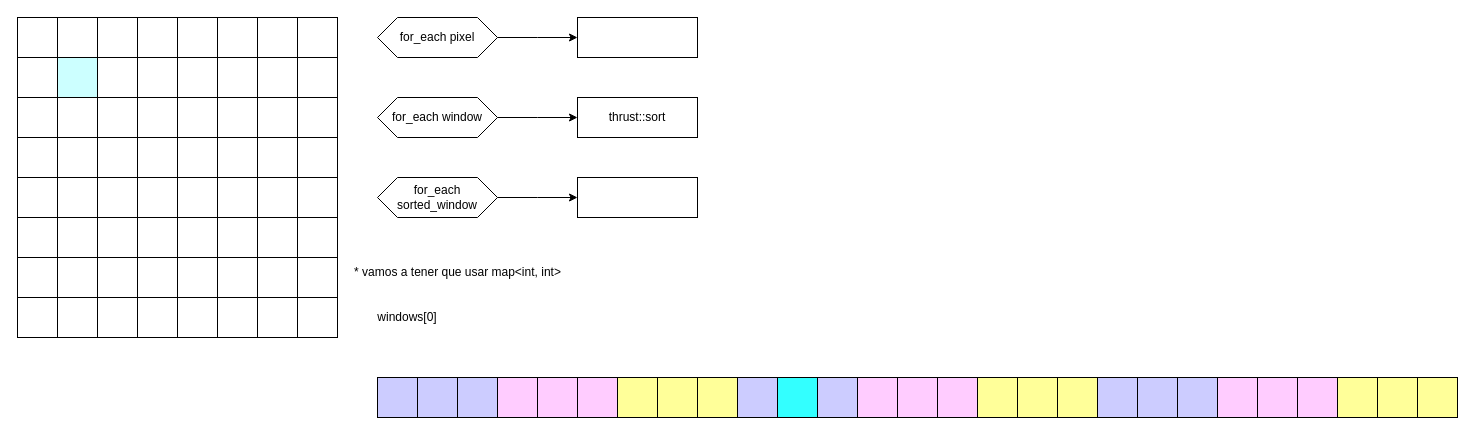
Some shapes in this 1475 by 435 pixel diagram are drawn without their labels. Each missing label, with the box of its shape:
generarVentana: (576, 16, 698, 58)
select[size/2]: (576, 176, 698, 218)
